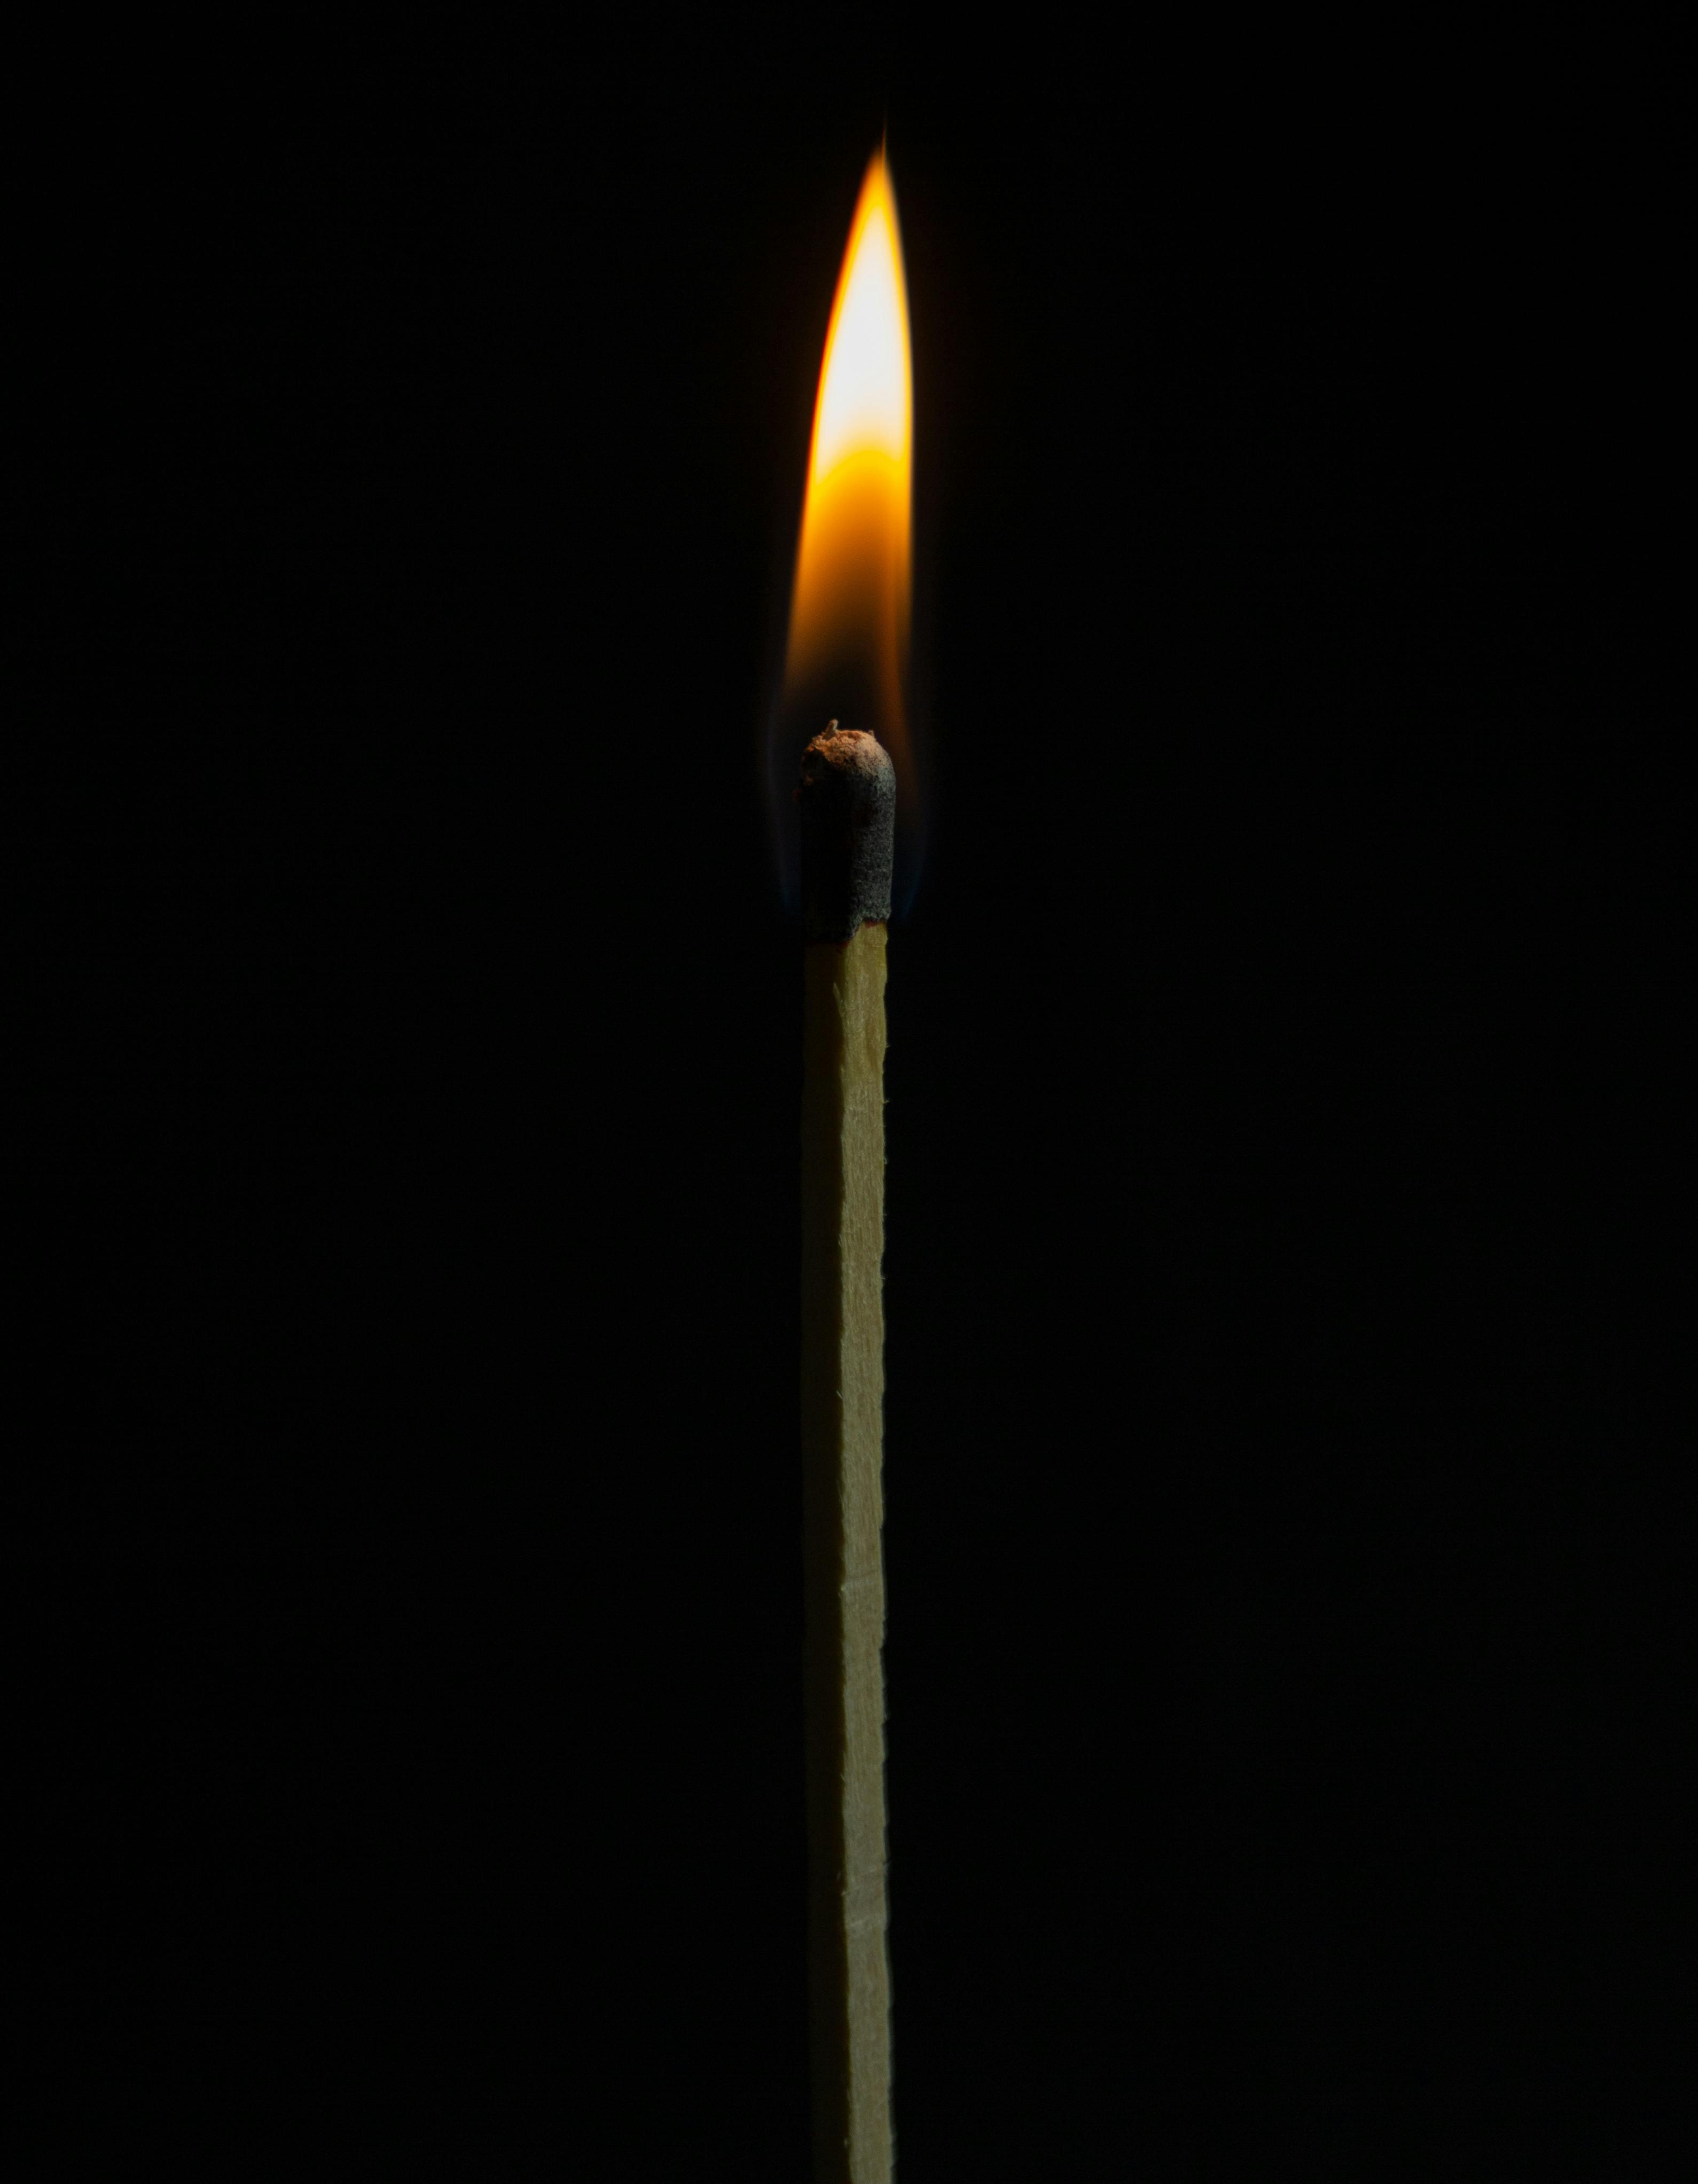Fire: (759, 156, 952, 775)
